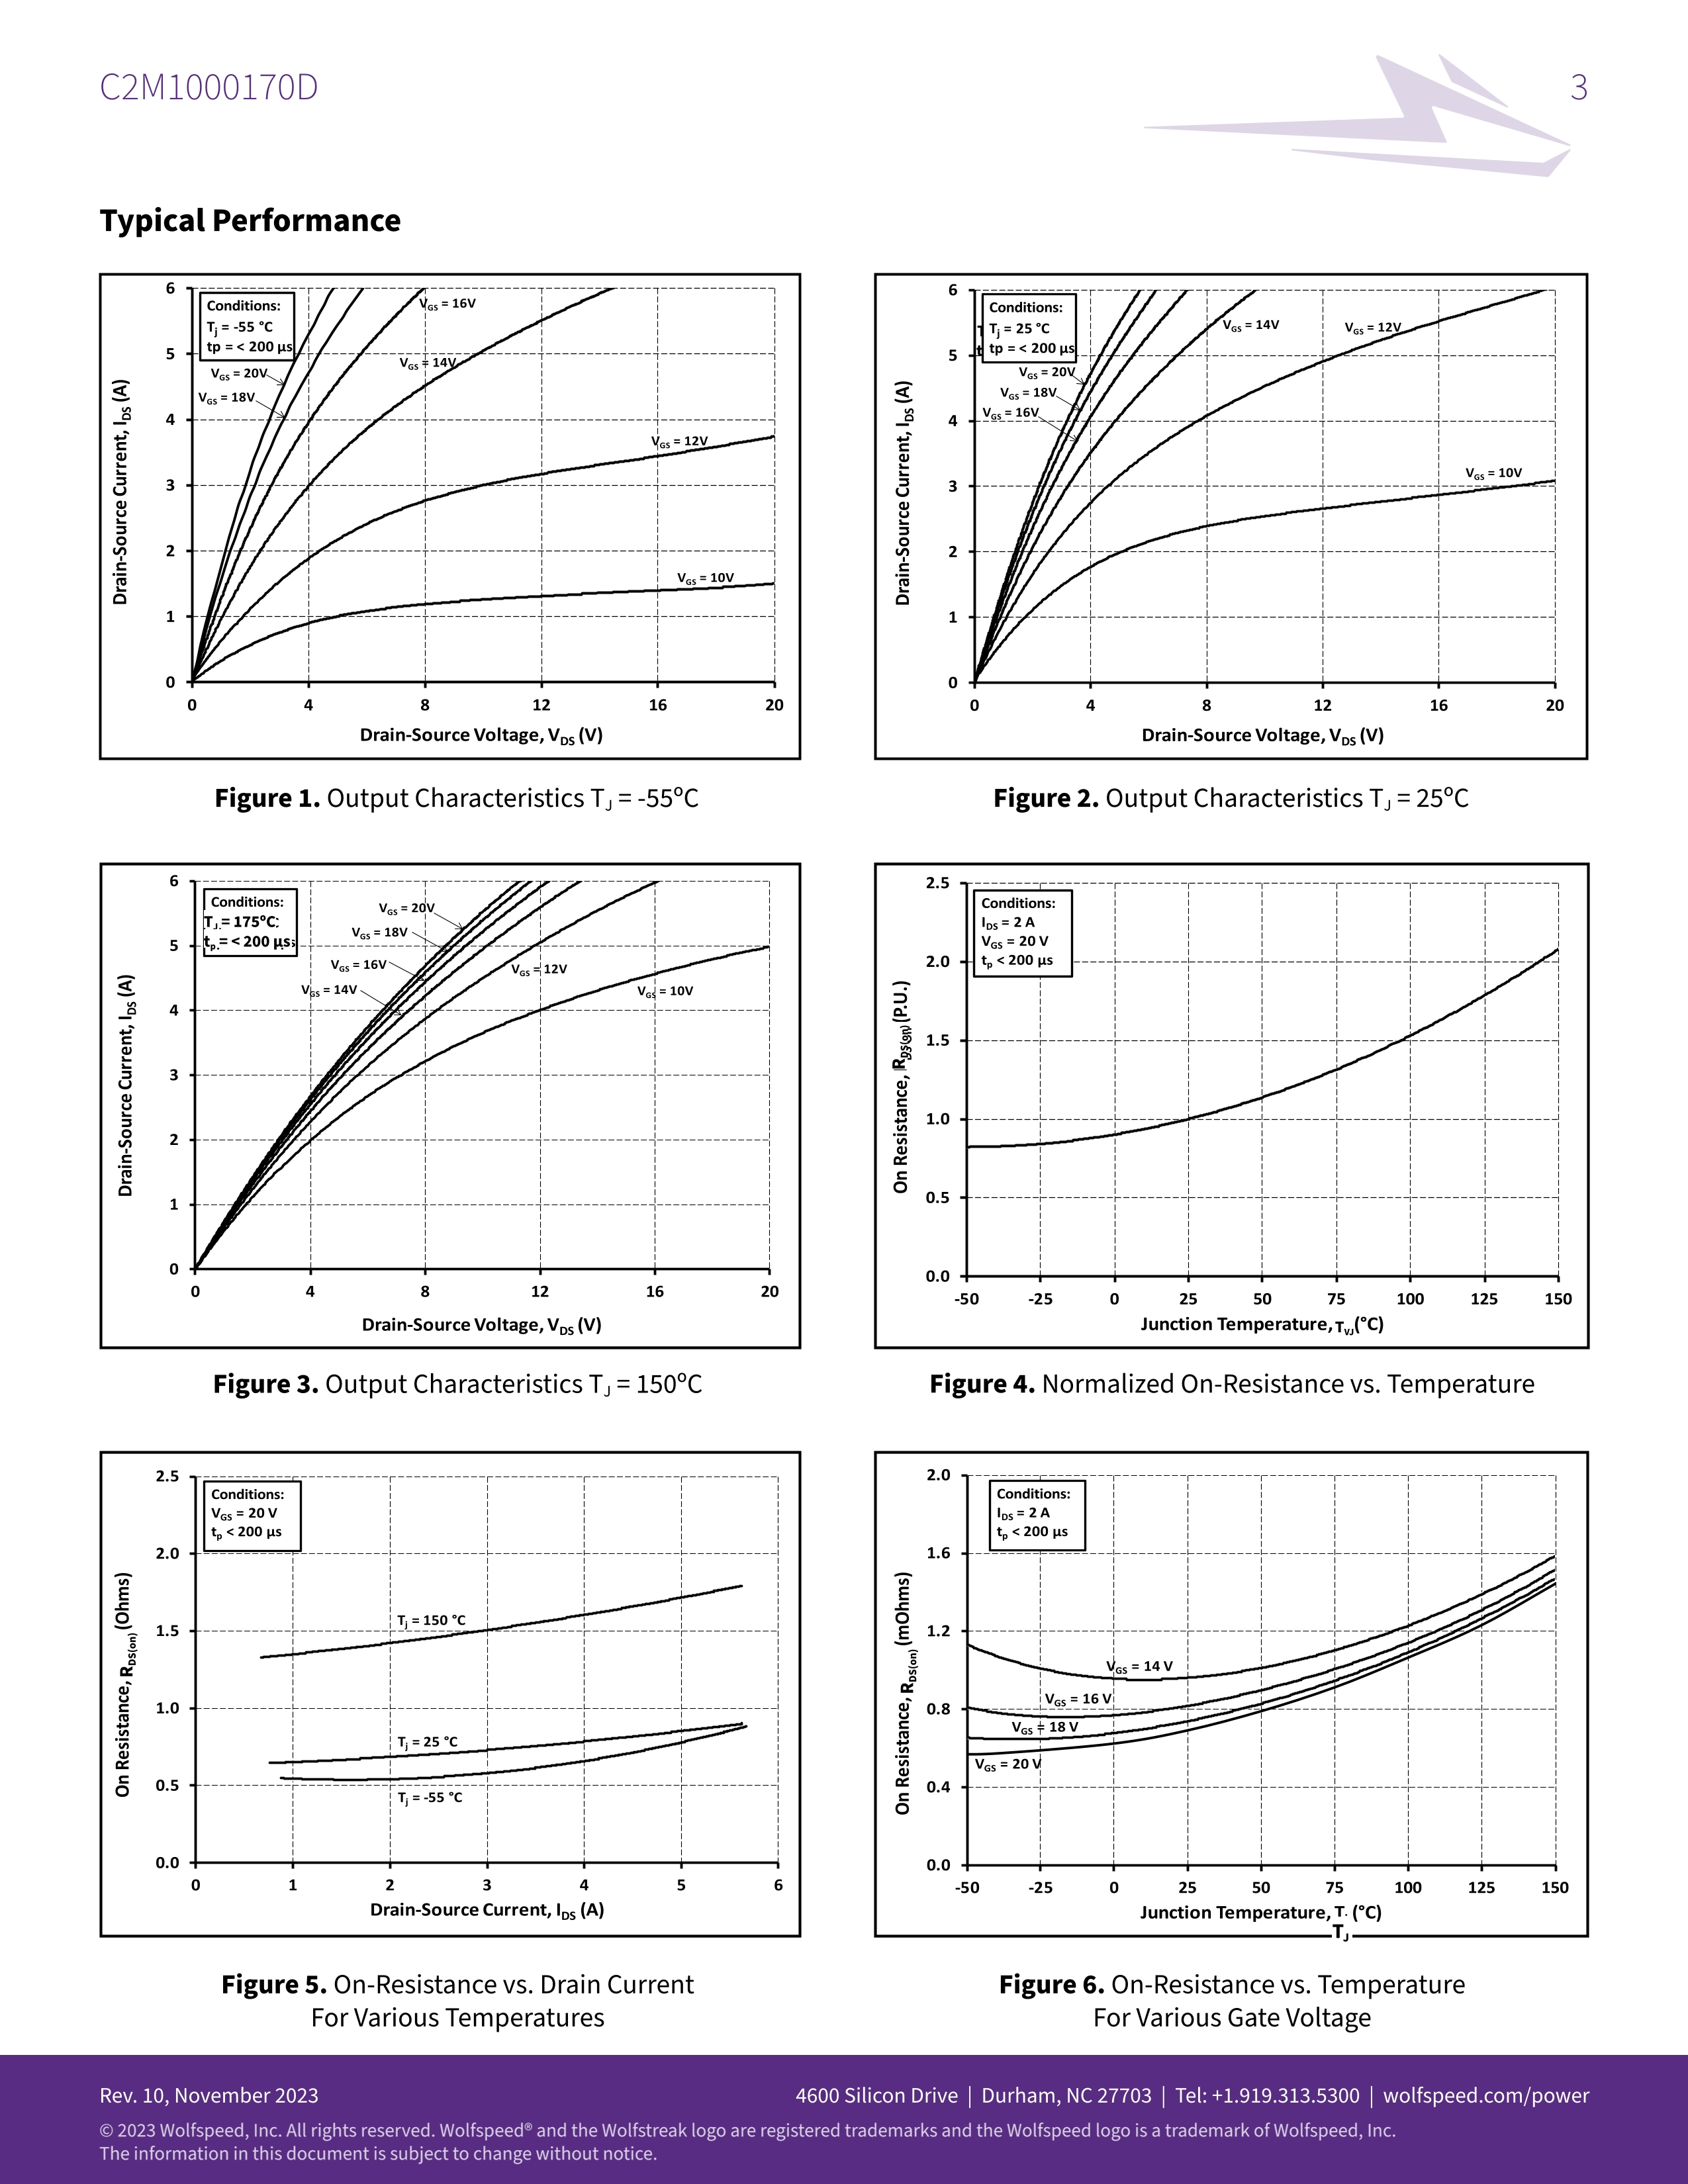diagram: (864, 1445, 1601, 2039), (89, 1438, 810, 2039), (864, 851, 1605, 1409), (865, 264, 1601, 824), (92, 261, 810, 831), (87, 849, 810, 1409)
